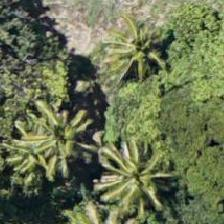coconut_tree: (4, 102, 94, 192), (88, 132, 178, 222)
